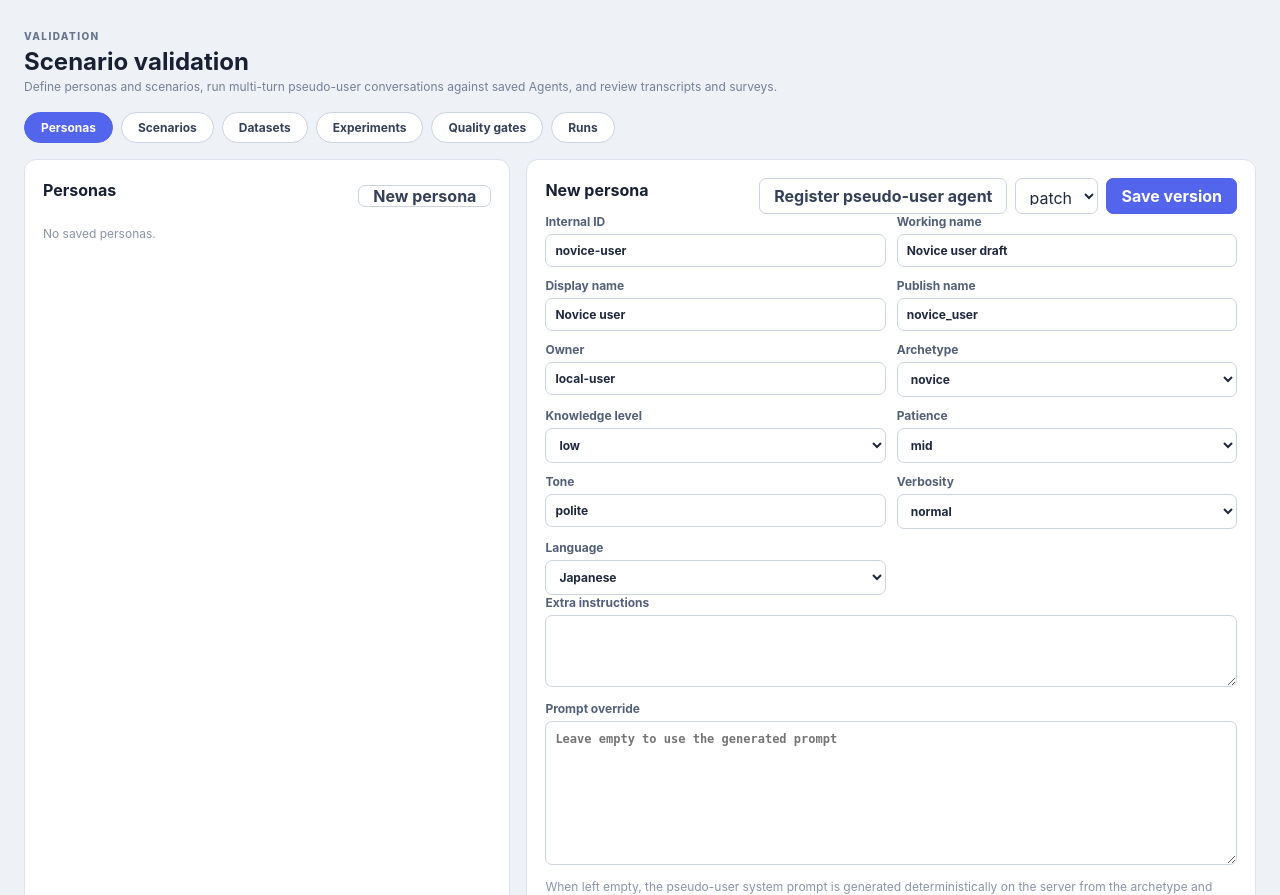
Test case: ValidationPage › Delete policyでdeleteGatePolicyを呼び、一覧を再取得する（確認ダイアログ経由）
Click the tab "Quality gates" at (487, 128), box [432,112,543,143]
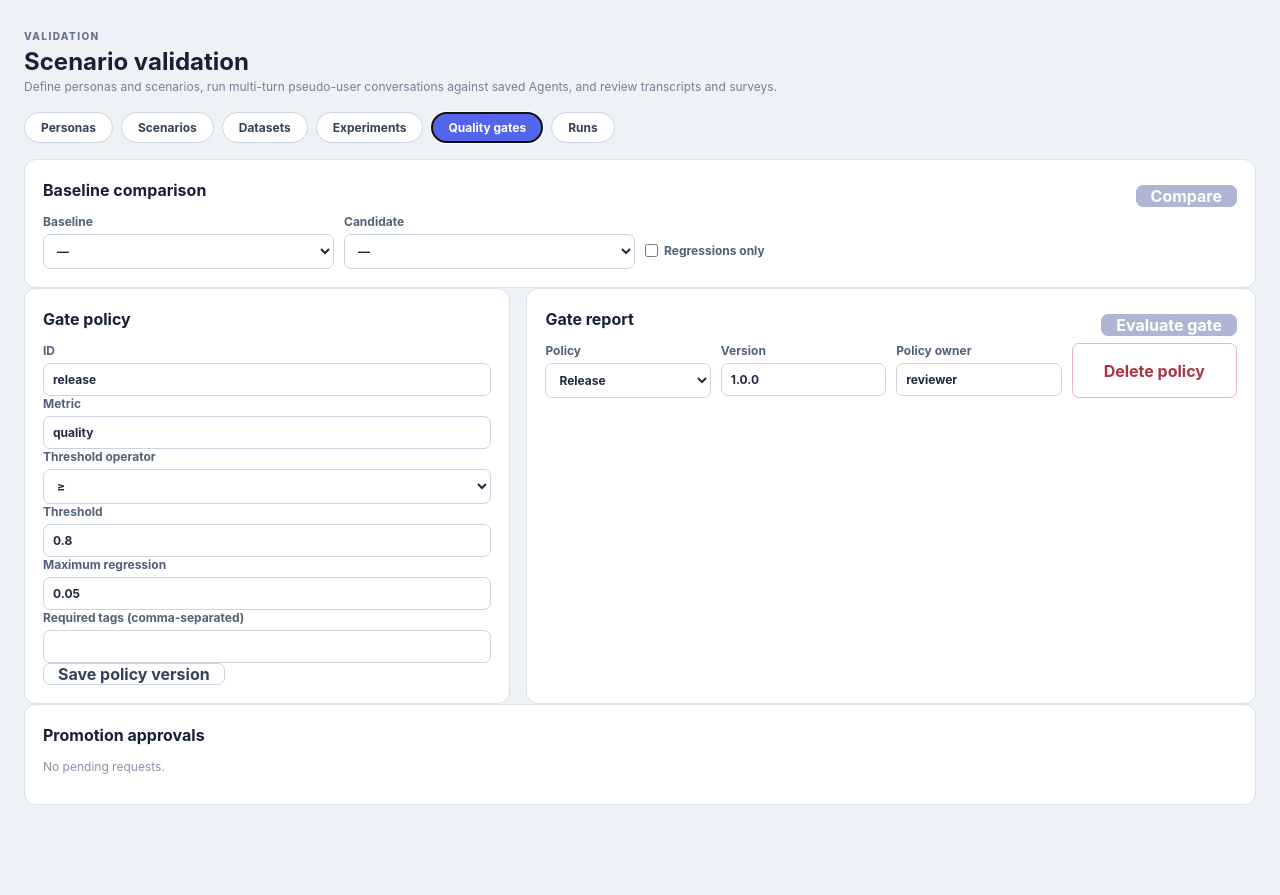
Click the button "Delete policy" at (1154, 370), box [1072,343,1237,398]
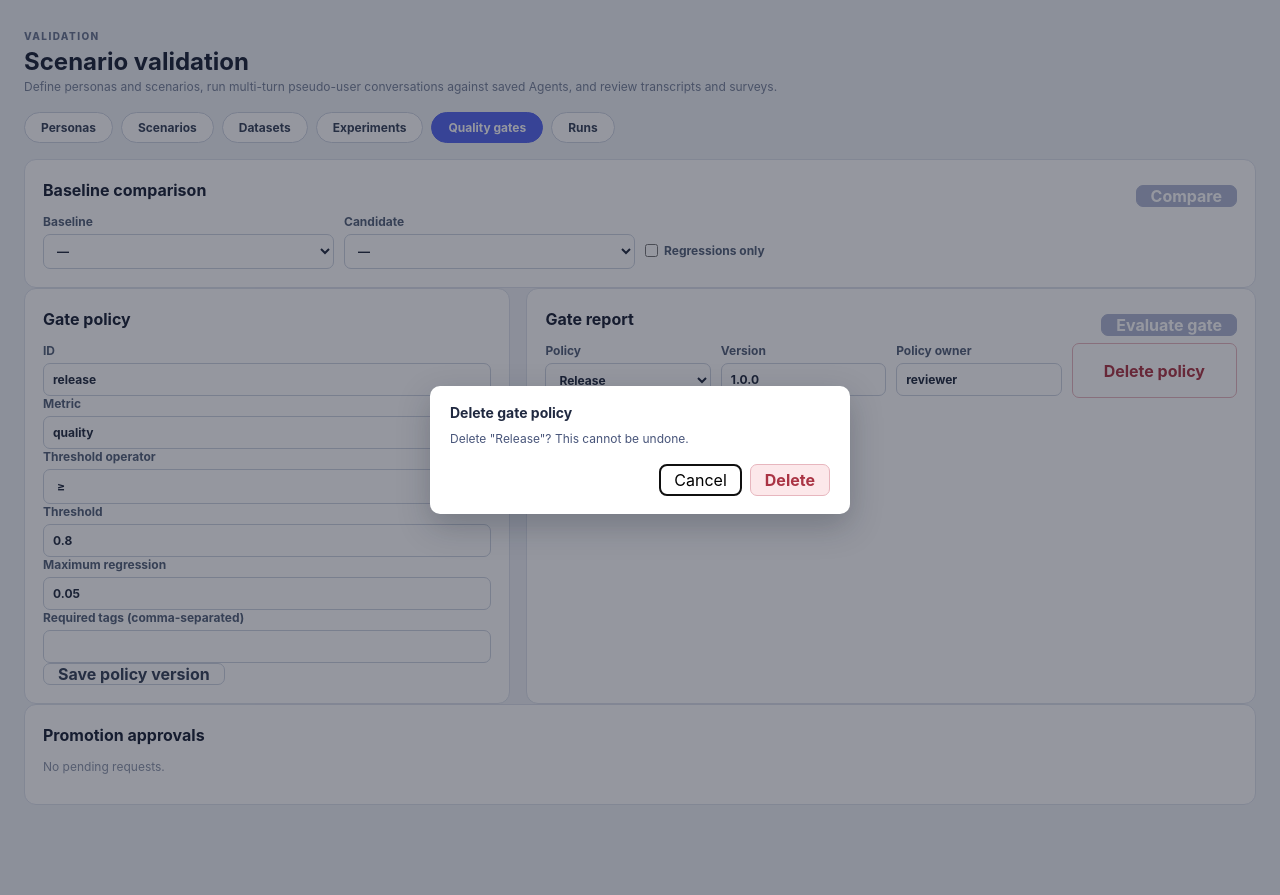
Now the dialog shows "Release", box [450,431,689,446]
Click the button "Delete" at (790, 480), box [750,464,830,496]
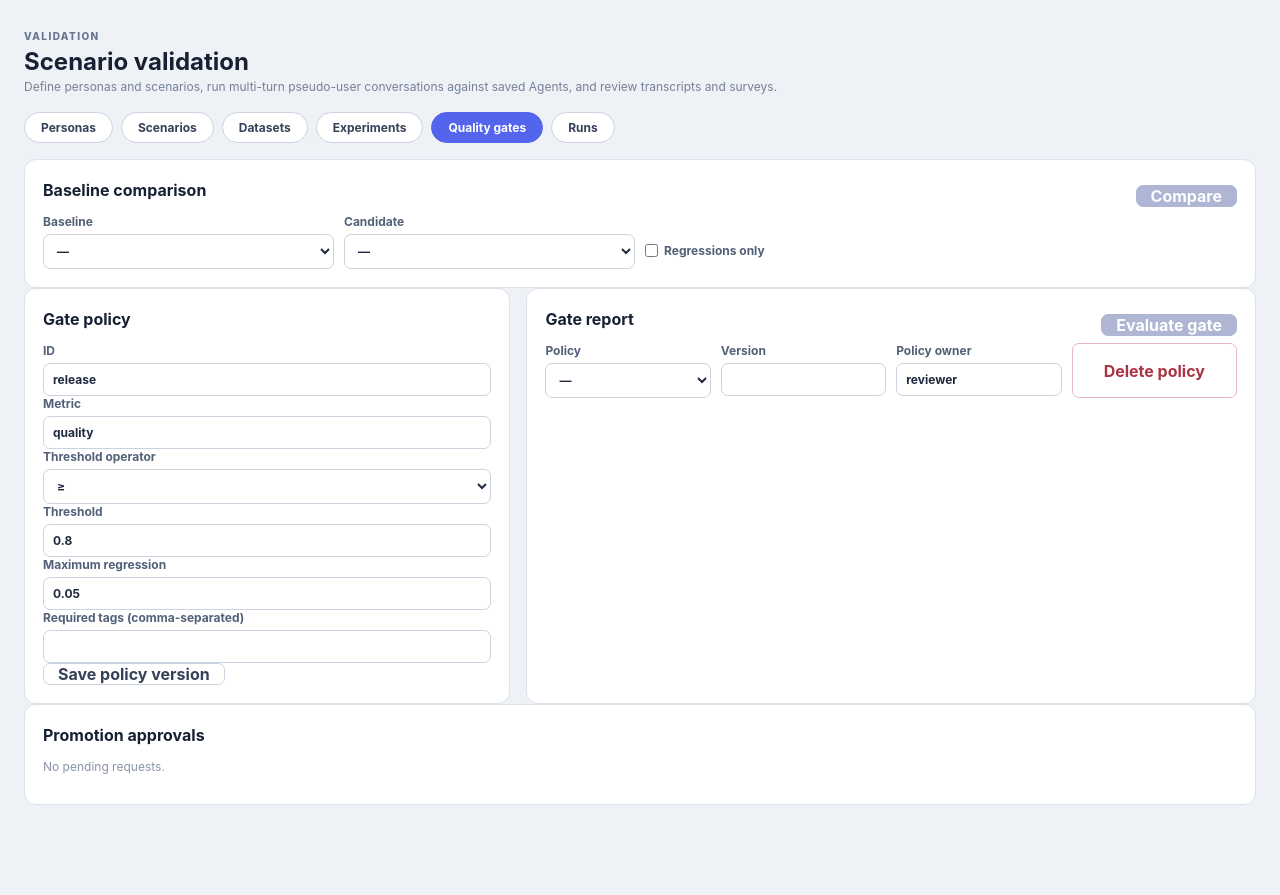
Now the dropdown named "Gate policy" shows "—", box [545,363,711,398]
